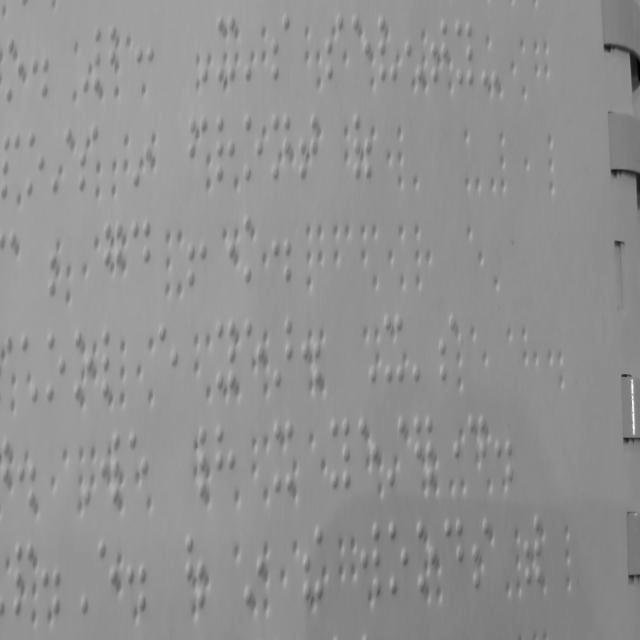braiile: (126, 424, 152, 514), (96, 532, 120, 628), (10, 536, 36, 624), (442, 514, 466, 606), (241, 314, 266, 402), (98, 427, 123, 513), (128, 214, 152, 303), (270, 416, 296, 498), (414, 512, 437, 604), (470, 511, 494, 598), (356, 409, 379, 499), (466, 410, 490, 496), (212, 420, 237, 502), (102, 215, 125, 304), (359, 518, 382, 607), (269, 8, 294, 88), (381, 310, 406, 390), (242, 108, 266, 190), (214, 317, 238, 399), (242, 206, 264, 294), (324, 9, 348, 88), (156, 320, 179, 402), (453, 13, 477, 91), (76, 118, 100, 196), (328, 415, 352, 493), (215, 10, 238, 89), (376, 13, 399, 91), (213, 109, 236, 187), (44, 326, 67, 404), (388, 516, 409, 601), (436, 310, 458, 391), (268, 110, 292, 184), (297, 107, 320, 182), (105, 18, 127, 96), (100, 324, 121, 405), (350, 9, 372, 86), (4, 32, 26, 108), (188, 111, 210, 187), (73, 328, 95, 402), (0, 126, 21, 203), (25, 126, 46, 202), (428, 13, 448, 91)
